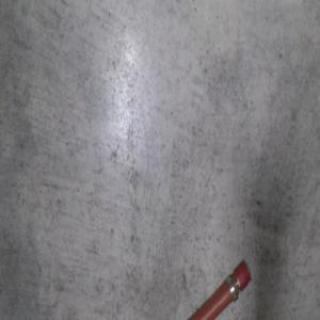Hosetrack_idkeyframe: (174, 254, 253, 319)
